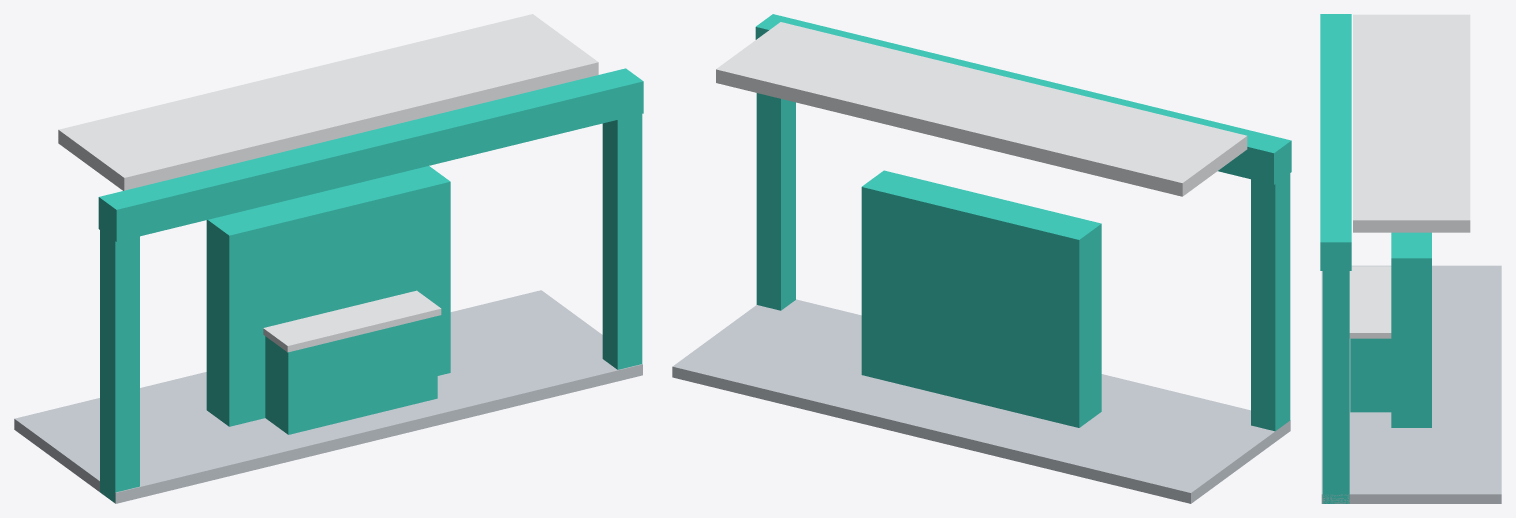
3 renders of one model, left to right at view 1: azimuth 30°, elevation 25°; view 2: azimuth 150°, elevation 25°; view 3: azimuth 270°, elevation 25°, orthographic. The views are drawn at different scales.
Parts seen in each view (by area): view 1: Exhibition Booth Concept; view 2: Exhibition Booth Concept; view 3: Exhibition Booth Concept.
Part boxes in pixels (box(x1,y1,x2,y2)): Exhibition Booth Concept: box(14, 14, 643, 503); Exhibition Booth Concept: box(672, 14, 1291, 503); Exhibition Booth Concept: box(1320, 14, 1501, 503).
Size of the model in its own units: 6 by 3.34 by 2.01.
